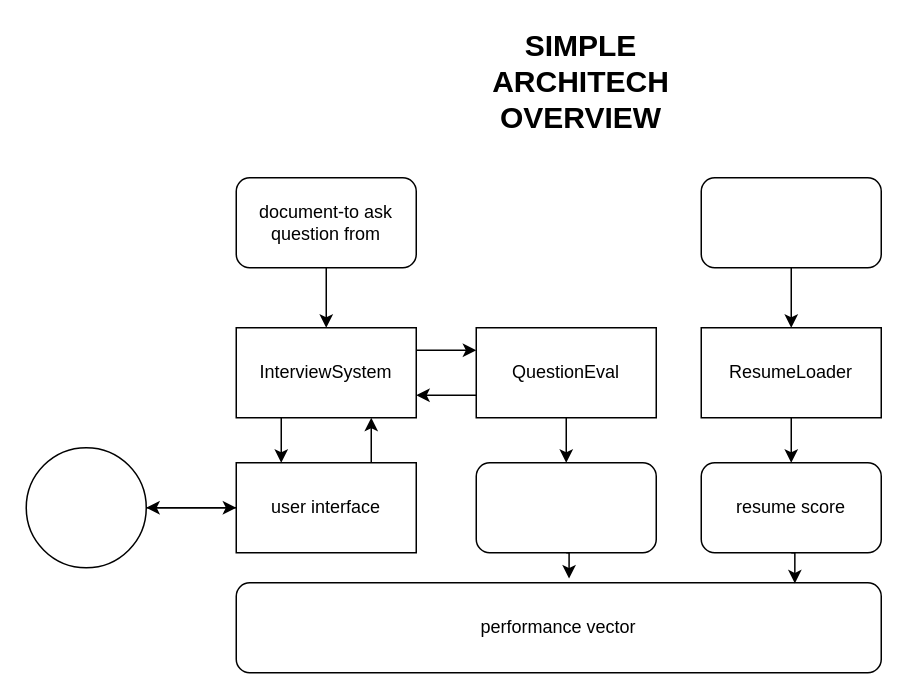
Some shapes in this 908 by 699 pixel diagram are drawn without their labels. Here are the shapes that lost their labels. From the top down, the centre of each, then its label:
the point at 790,222: candidate resume
the point at 85,507: user
the point at 565,507: interview score
